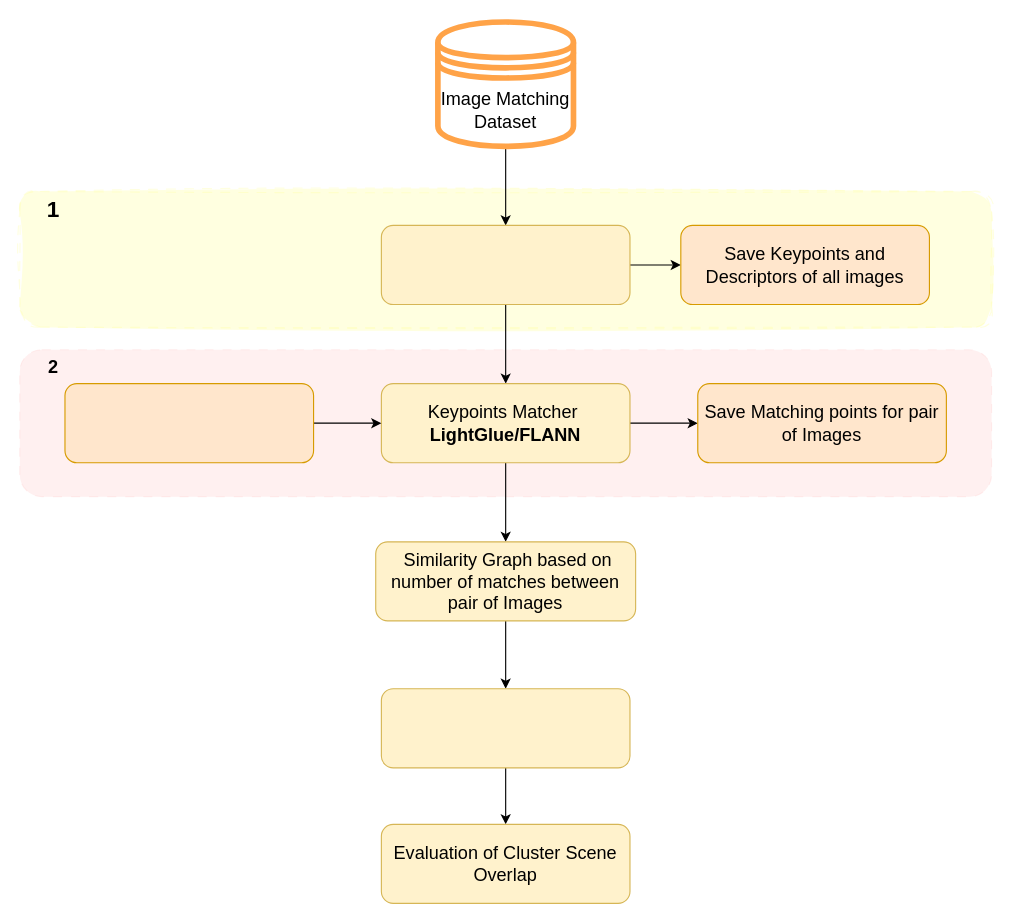
Image size: 1011x923. Some labels were removed from this diagram. Each missing label, with the centre of its shape:
Community Detection Louvain Method Clusters > 3 images: the point at 505,728
Keypoints Extraction & Keypoint Descriptors SIFT/DISK: the point at 505,264
Pair of Images with their descriptors: the point at 189,423
